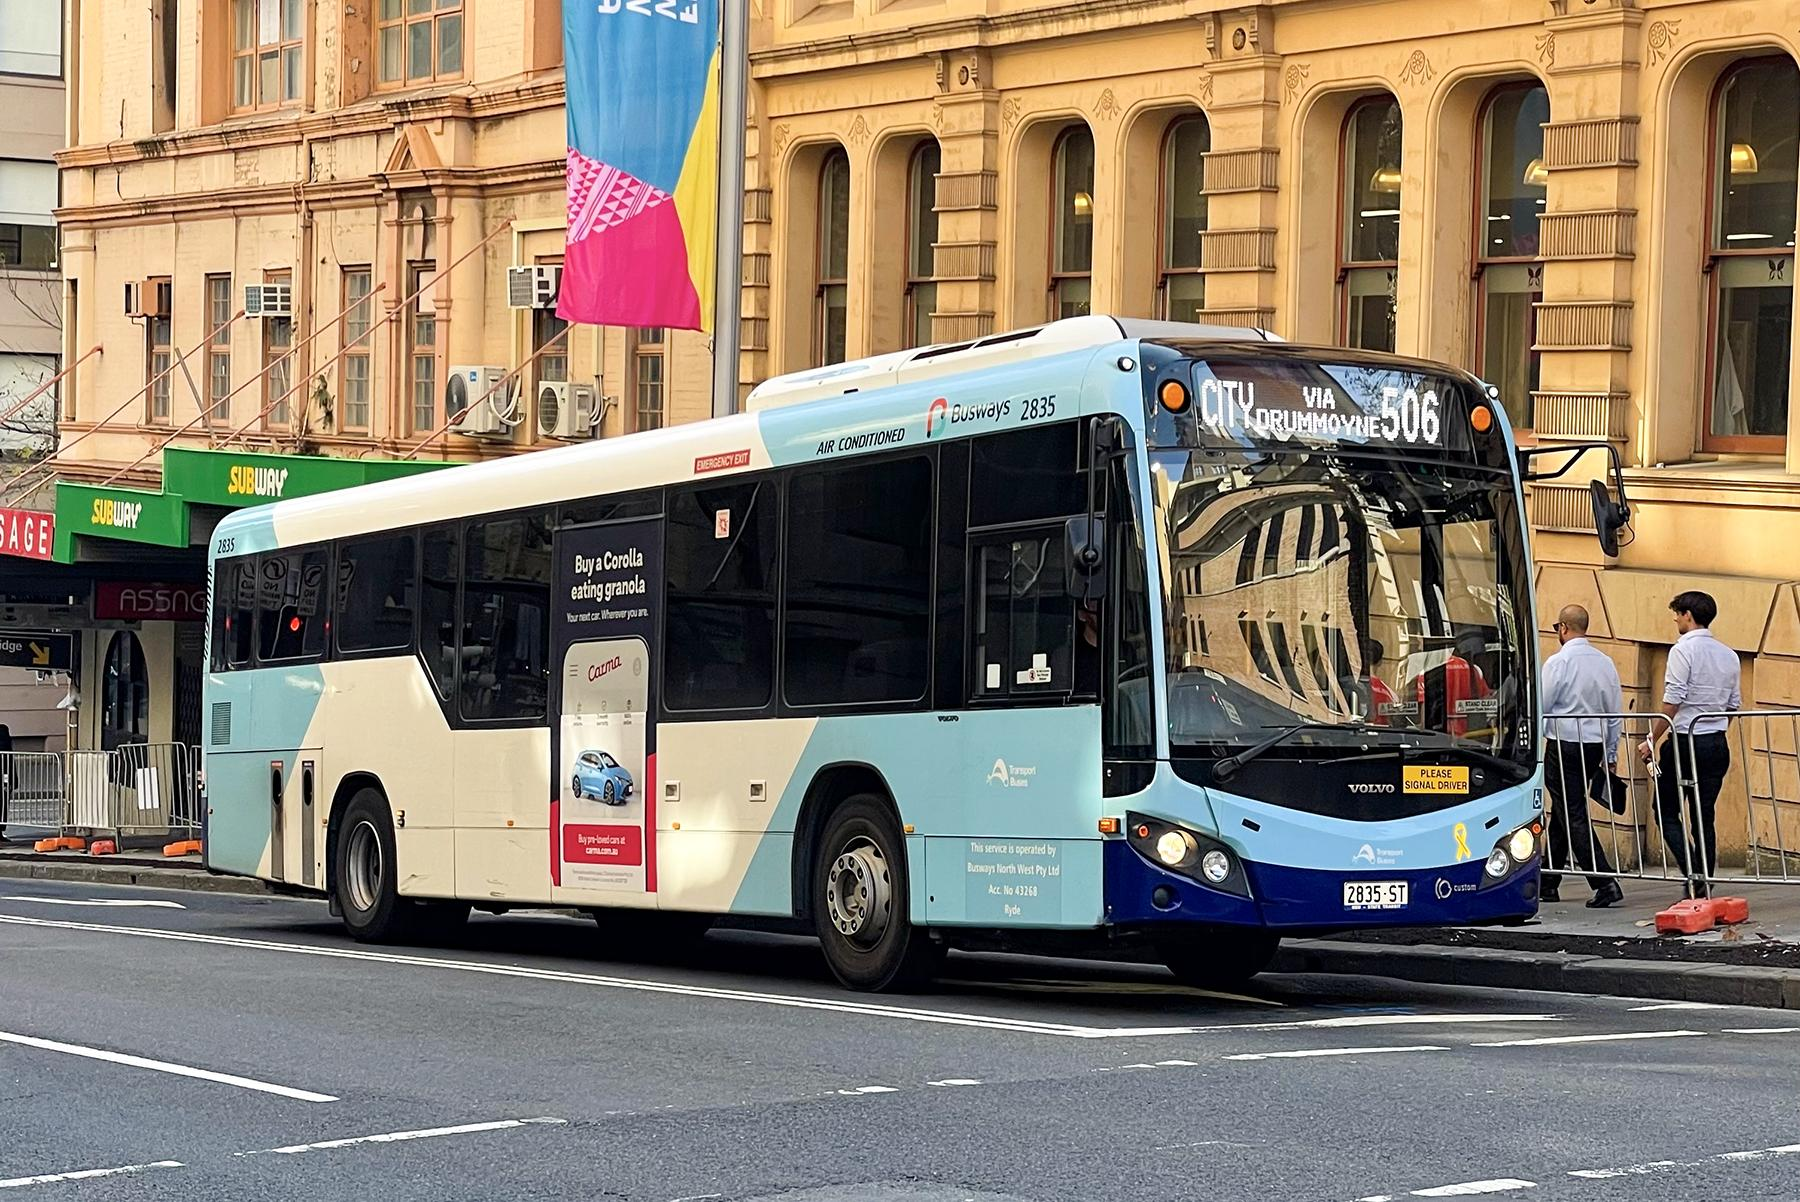bus: (196, 307, 1573, 995)
